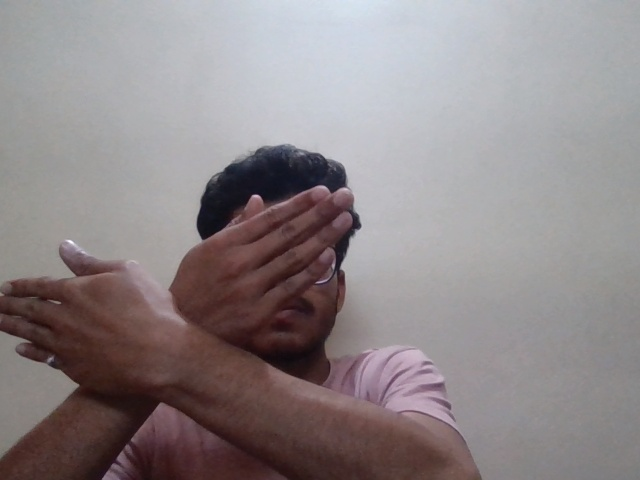feel: (1, 184, 404, 443)
